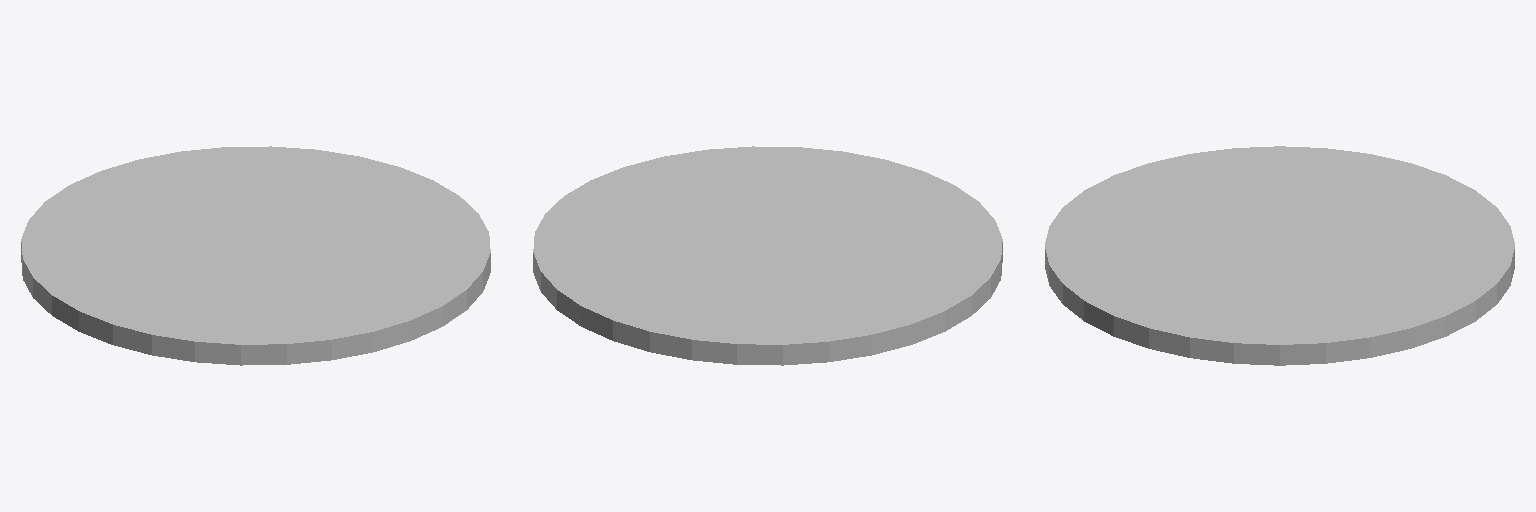
File: DartBoard.obj
The picture shows the model from 3 angles: view 1: azimuth 30°, elevation 25°; view 2: azimuth 150°, elevation 25°; view 3: azimuth 270°, elevation 25°; orthographic projection.
Visible parts, largest first — view 1: Cylinder; view 2: Cylinder; view 3: Cylinder.
Part boxes in pixels (bbox=[...]): Cylinder: bbox=[21, 146, 490, 365]; Cylinder: bbox=[533, 146, 1002, 365]; Cylinder: bbox=[1045, 146, 1514, 365].
Size of the model in its own units: 2.48 by 0.12 by 2.48.